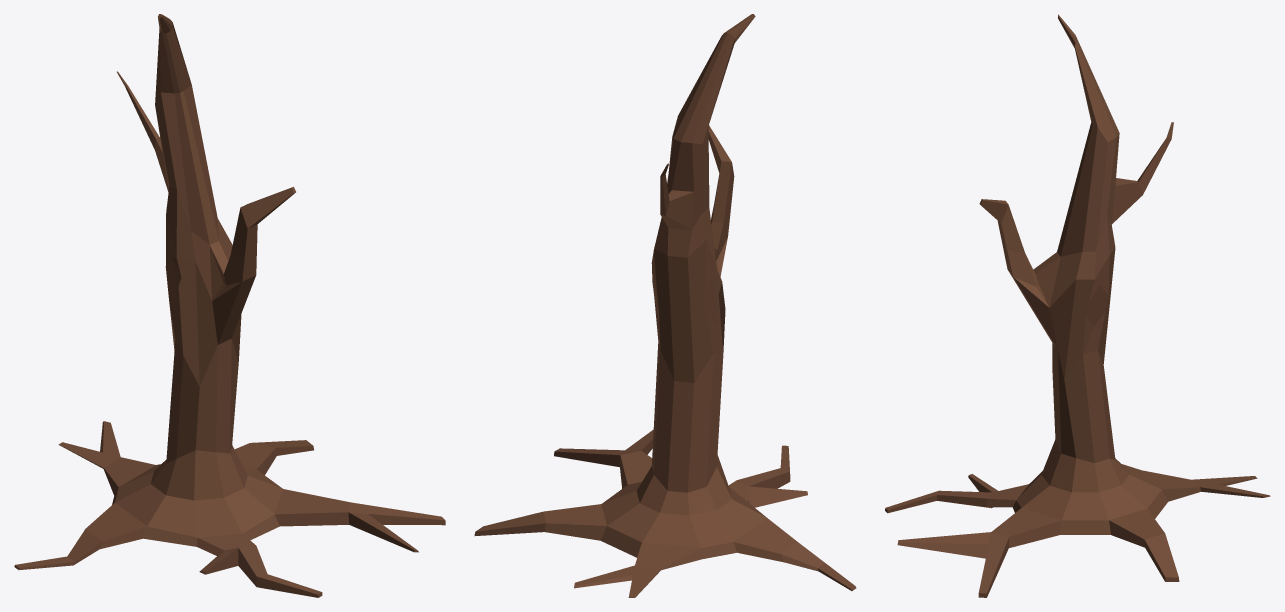
The model's file is DeadTree.fbx.
3 renders of one model, left to right at view 1: azimuth 30°, elevation 25°; view 2: azimuth 150°, elevation 25°; view 3: azimuth 270°, elevation 25°, orthographic. The views are drawn at different scales.
Parts seen in each view (by area): view 1: DeadTree; view 2: DeadTree; view 3: DeadTree.
Part boxes in pixels (left/top/right/bottom): DeadTree: left=14, top=14, right=445, bottom=597; DeadTree: left=474, top=14, right=856, bottom=597; DeadTree: left=885, top=14, right=1270, bottom=597.
Size of the model in its own units: 421 by 594 by 432.
Materials: 1 (1 with a texture image).
